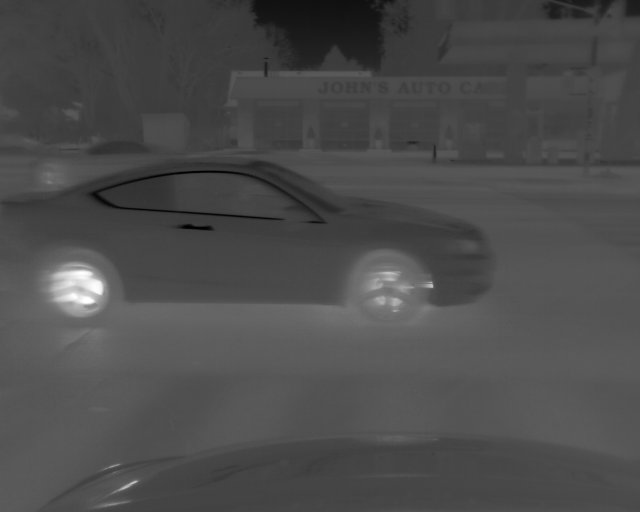car: (1, 153, 495, 321)
